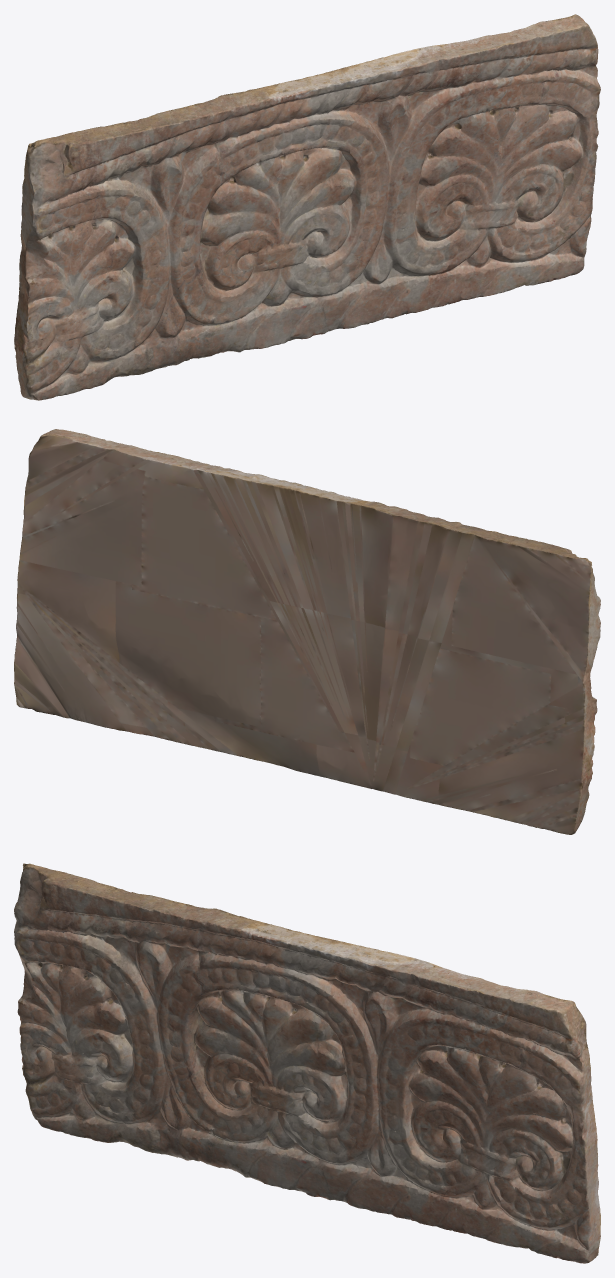
Rendered from lintel_470947.glb.
The picture shows the model from 3 angles, top to bottom: view 1: azimuth 30°, elevation 25°; view 2: azimuth 150°, elevation 25°; view 3: azimuth 330°, elevation 25°; orthographic projection.
Parts seen in each view (by area): view 1: ADVIMG_25_120_979_Voussoir_MASTER_n3d; view 2: ADVIMG_25_120_979_Voussoir_MASTER_n3d; view 3: ADVIMG_25_120_979_Voussoir_MASTER_n3d.
Boxes of the visible parts, x1,y1,x2,y2 form: ADVIMG_25_120_979_Voussoir_MASTER_n3d: [14, 14, 600, 400]; ADVIMG_25_120_979_Voussoir_MASTER_n3d: [14, 429, 600, 834]; ADVIMG_25_120_979_Voussoir_MASTER_n3d: [14, 863, 600, 1263].
Size of the model in its own units: 0.4515 by 0.2059 by 0.0404.
1 material, 1 textured.
